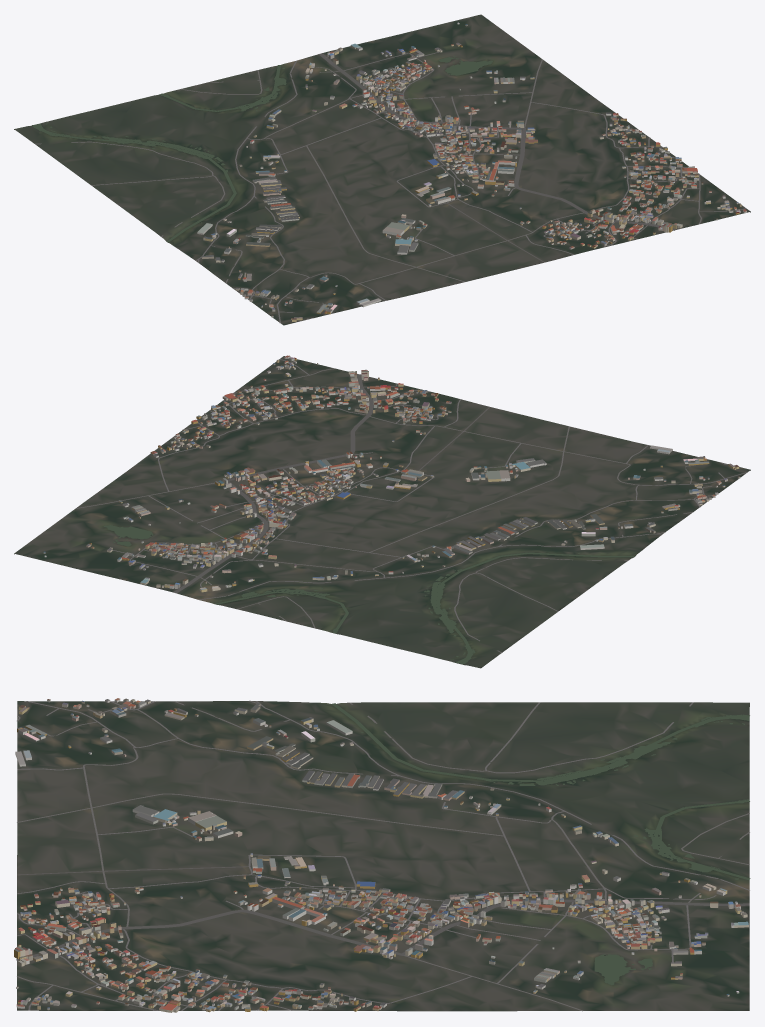
3 renders of one model, top to bottom at view 1: azimuth 30°, elevation 25°; view 2: azimuth 150°, elevation 25°; view 3: azimuth 270°, elevation 25°, orthographic. The views are drawn at different scales.
Parts seen in each view (by area): view 1: ground, buildings, roads, water; view 2: ground, buildings, roads, water; view 3: ground, buildings, roads, water.
Boxes of the visible parts, x1,y1,x2,y2 form: ground: [14, 14, 750, 325]; buildings: [197, 22, 746, 321]; roads: [35, 51, 746, 322]; water: [32, 56, 492, 242]; ground: [14, 356, 750, 668]; buildings: [43, 355, 740, 592]; roads: [75, 359, 747, 652]; water: [103, 525, 634, 664]; ground: [17, 701, 749, 1011]; buildings: [14, 698, 748, 1012]; roads: [16, 700, 749, 1011]; water: [331, 703, 750, 985].
Bounding box in the file's own units: 1415 × 24.52 × 1410.
